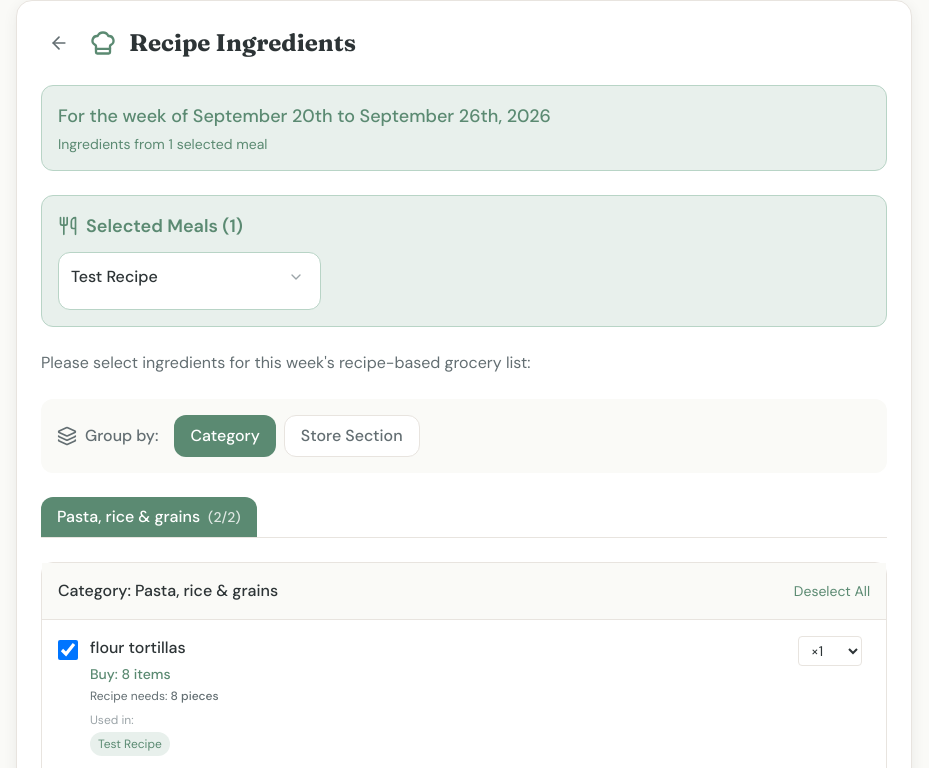
RecipeIngredients quantity display › raising the multiplier still multiplies the purchase amount
Expected: the heading "flour tortillas" is shown, [90,637,186,658]
Step 1. Select "×3" in the dropdown → [830, 651], box [798,636,862,666]
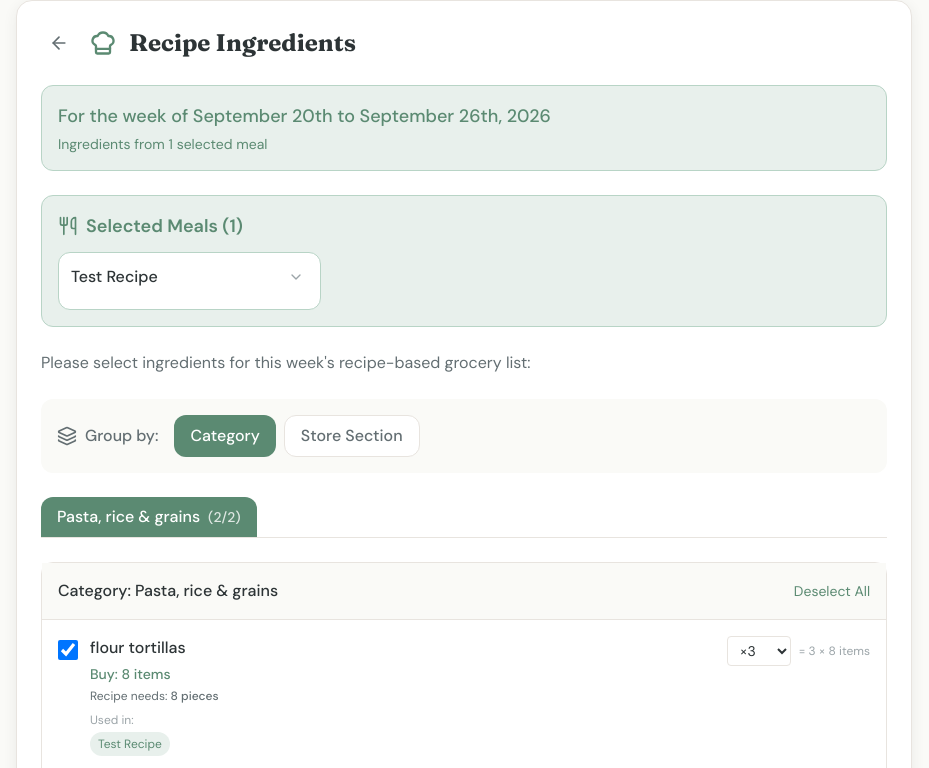
Result: the text "= 3 × 8 items" is shown at [799,643,870,659]
